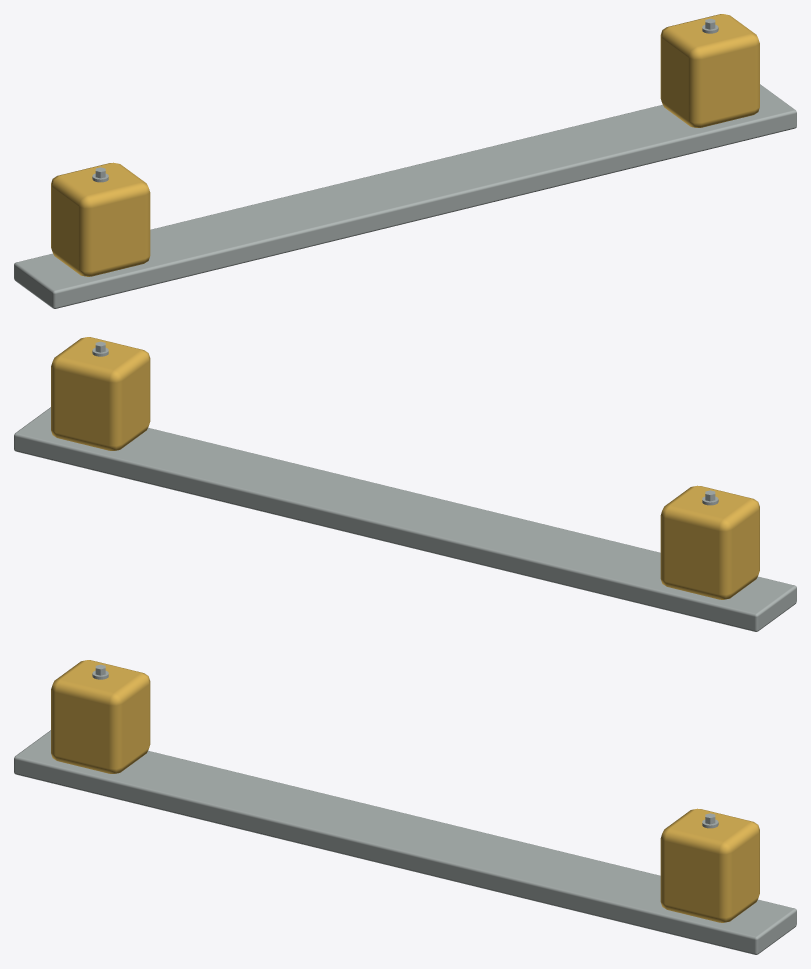
File: automated-parking-and-vehicle-retrieval-automated-park-38ae6295__30359.glb
3 renders of one model, top to bottom at view 1: azimuth 30°, elevation 25°; view 2: azimuth 150°, elevation 25°; view 3: azimuth 330°, elevation 25°, orthographic.
Parts seen in each view (by area): view 1: automated-parking-and-vehicle-retrieval-shuttle-rail-end-sto (×2); view 2: automated-parking-and-vehicle-retrieval-shuttle-rail-end-sto (×2); view 3: automated-parking-and-vehicle-retrieval-shuttle-rail-end-sto (×2).
Boxes of the visible parts, x1,y1,x2,y2 form: automated-parking-and-vehicle-retrieval-shuttle-rail-end-sto (×2): (14,14,796,308); automated-parking-and-vehicle-retrieval-shuttle-rail-end-sto (×2): (14,337,796,631); automated-parking-and-vehicle-retrieval-shuttle-rail-end-sto (×2): (14,660,796,954).
Size of the model in its own units: 2.1 by 0.2951 by 0.2.
